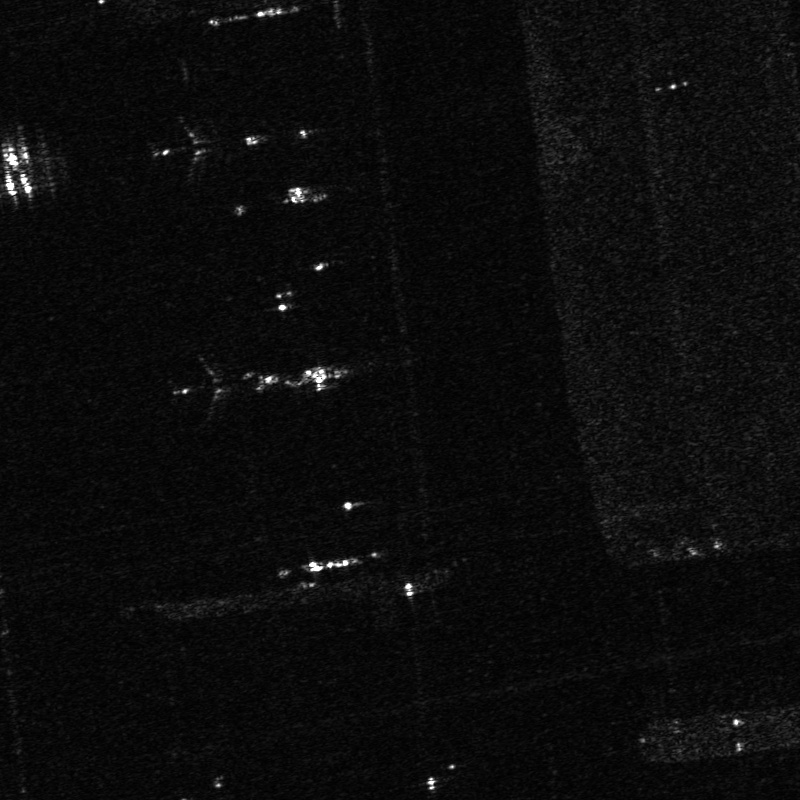Boeing737: (155, 343, 246, 431), (142, 104, 225, 189)
